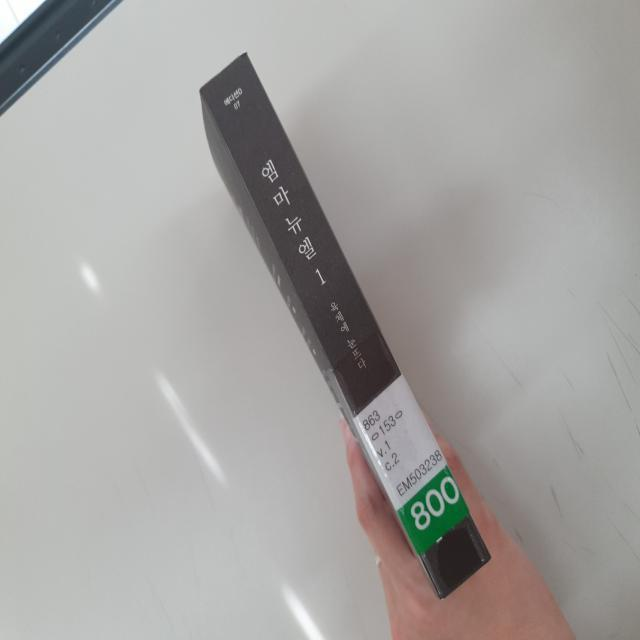Wornout: (436, 587, 455, 604), (234, 46, 250, 61)
